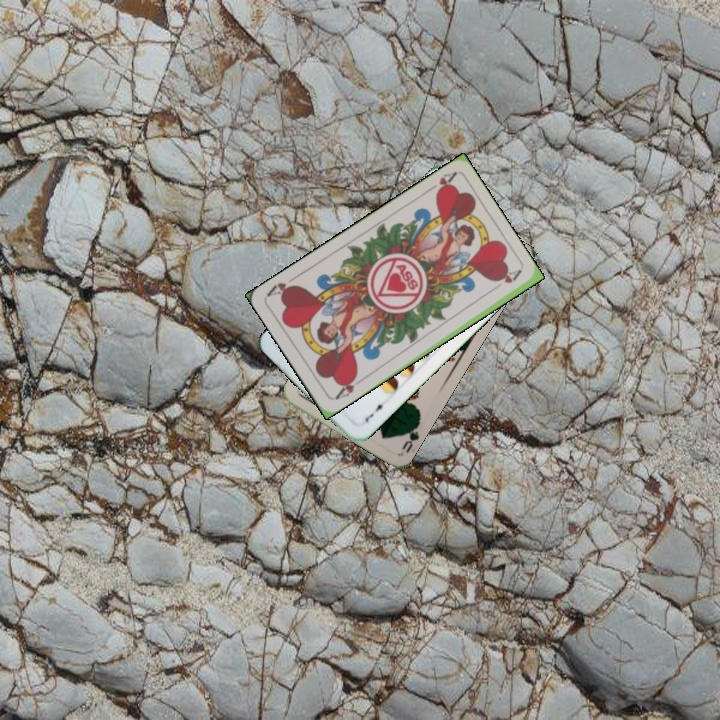E7: (361, 398, 389, 425)
GO: (398, 417, 423, 456)
HA: (331, 370, 366, 402), (421, 168, 458, 198)
